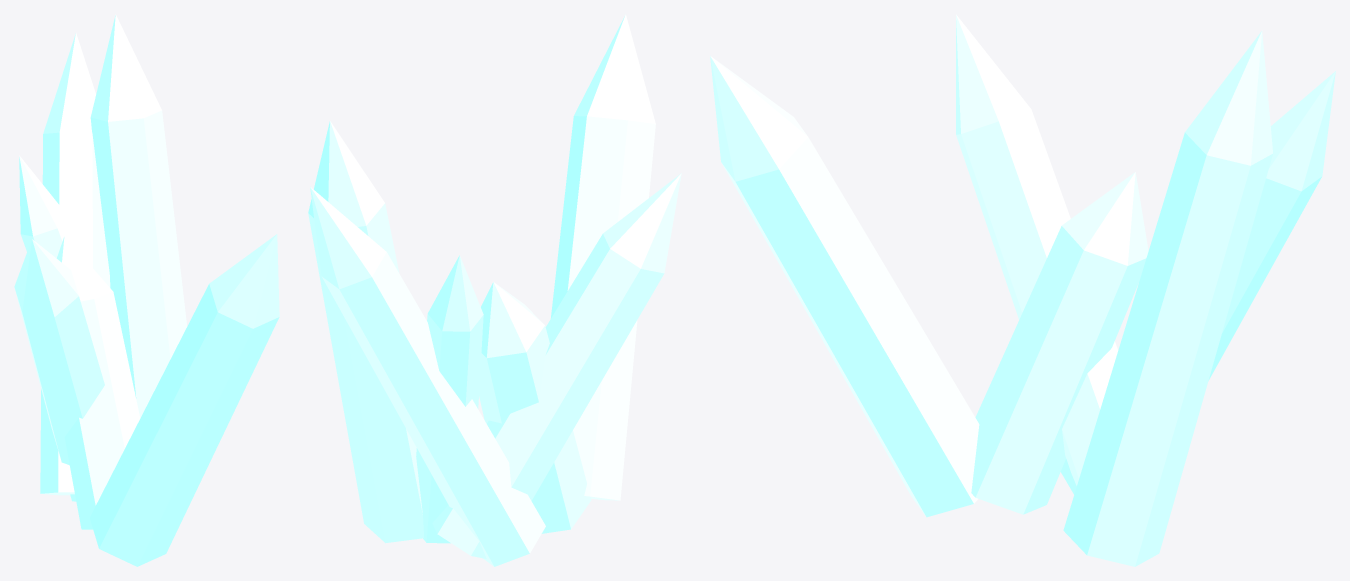
Rendered from crystal_a.glb.
The picture shows the model from 3 angles, left to right: view 1: azimuth 30°, elevation 25°; view 2: azimuth 150°, elevation 25°; view 3: azimuth 270°, elevation 25°; orthographic projection. The views are drawn at different scales.
Visible parts, largest first — view 1: crystal_a; view 2: crystal_a; view 3: crystal_a.
Part boxes in pixels (x1,y1,x2,y2): crystal_a: (14, 14, 279, 566); crystal_a: (308, 14, 681, 566); crystal_a: (710, 14, 1335, 566).
Bounding box in the file's own units: 0.1852 × 0.3274 × 0.3454.
